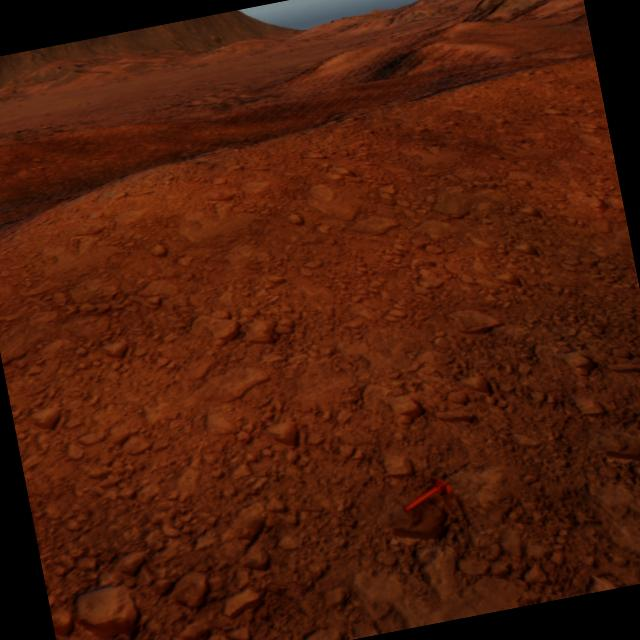newhammer: (398, 474, 454, 512)
